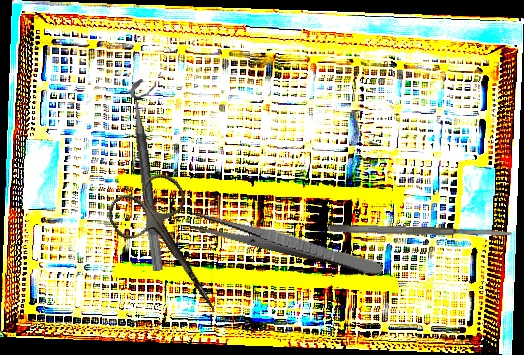Dressing Forceps: (186, 209, 386, 278)
Fixation Ring: (127, 77, 181, 272)
Iris Scissors: (101, 166, 247, 334)
Spatula Surgical: (326, 222, 515, 240)
